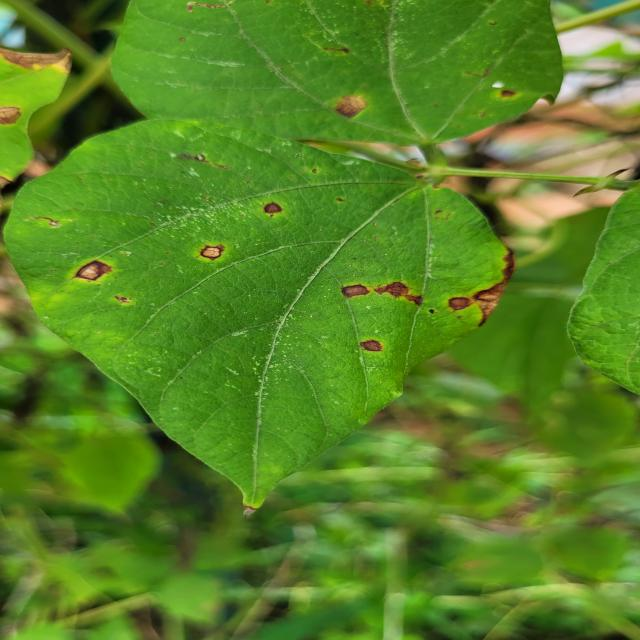Dolicos bean_cercospora leaf spot: (0, 116, 519, 522), (88, 0, 574, 153)
